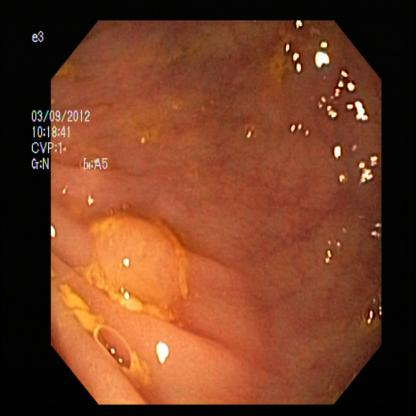Labels: (25, 95, 133, 183)
Polyps: (81, 212, 200, 320)
